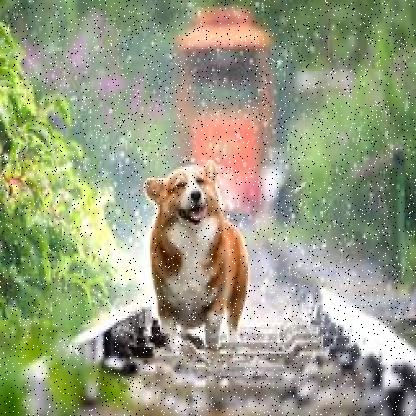dog: (139, 154, 256, 350)
